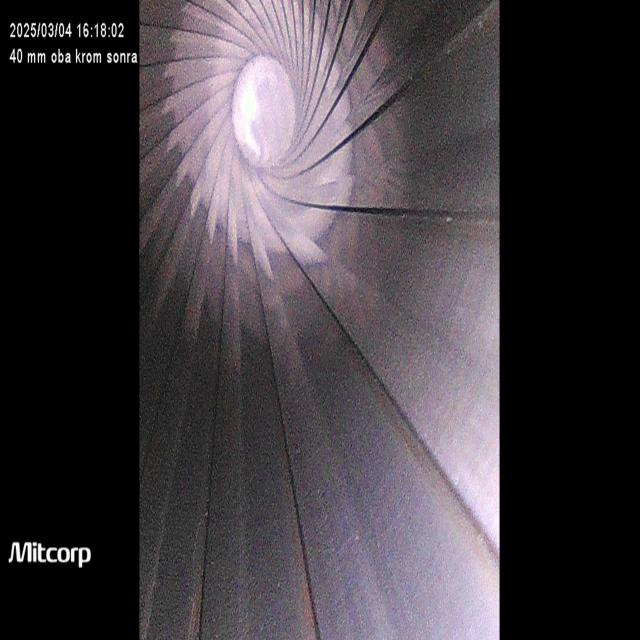hata_8.2: (214, 192, 360, 344)
